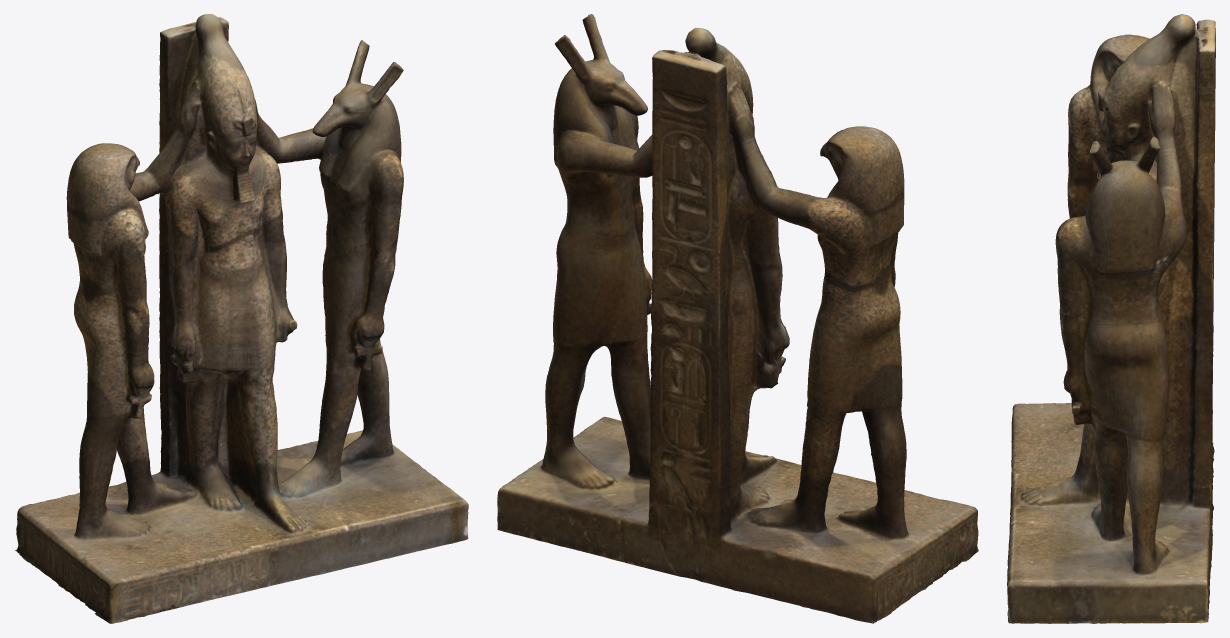
Rendered from Estatue.glb.
3 renders of one model, left to right at view 1: azimuth 30°, elevation 25°; view 2: azimuth 150°, elevation 25°; view 3: azimuth 270°, elevation 25°, orthographic. The views are drawn at different scales.
Size of the model in its own units: 2.25 by 3 by 1.09.
Materials: 1 (1 with a texture image).
